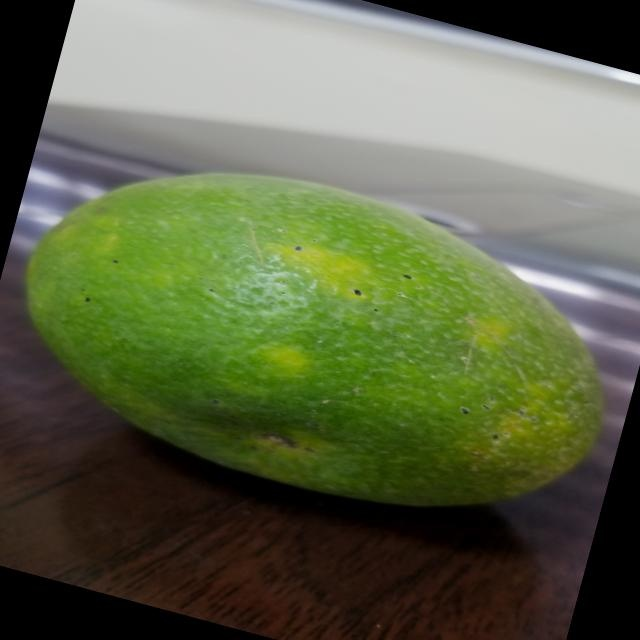agrume: (0, 103, 640, 565)
